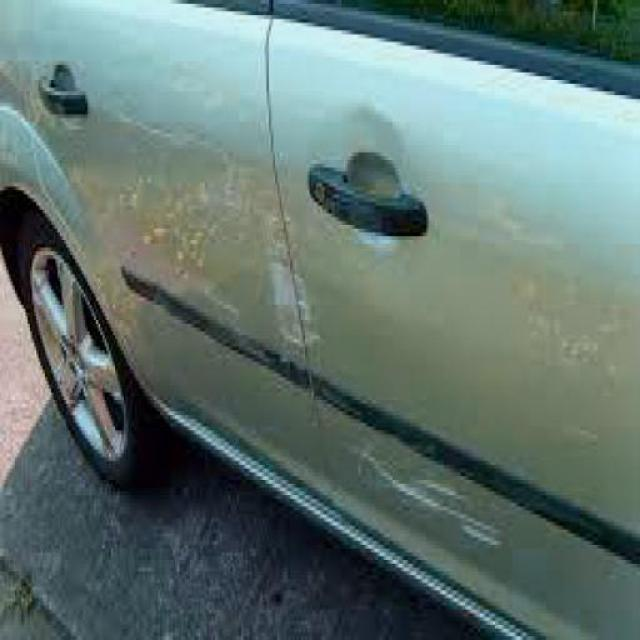car damage: (342, 435, 505, 561), (272, 207, 320, 356)
